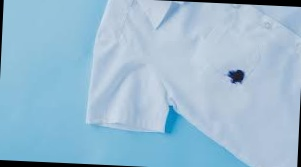ink: (227, 70, 245, 84)
